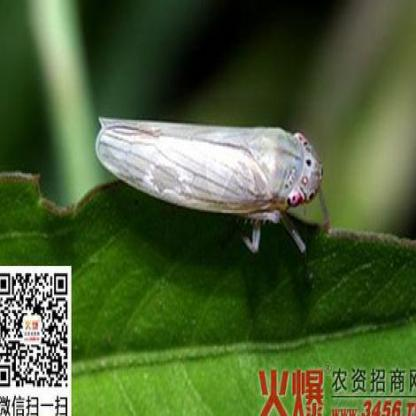Green-Leafhopper: (92, 112, 331, 256)
